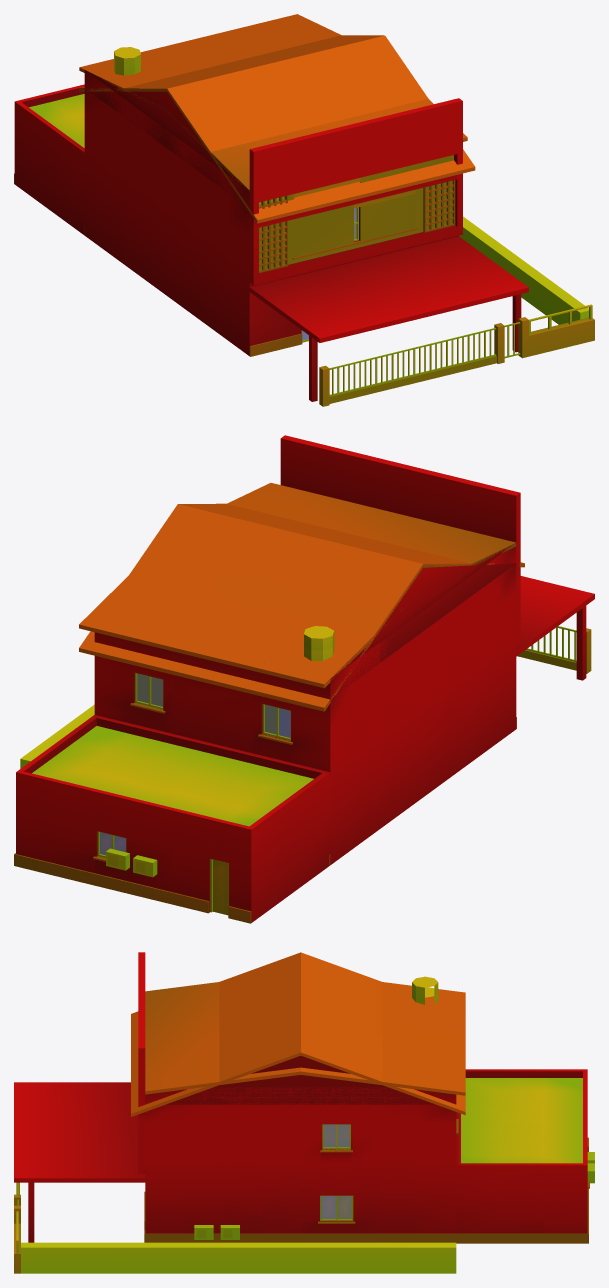
File: semi_d.glb
The picture shows the model from 3 angles, top to bottom: view 1: azimuth 30°, elevation 25°; view 2: azimuth 150°, elevation 25°; view 3: azimuth 270°, elevation 25°; orthographic projection. The views are drawn at different scales.
Visible parts, largest first — view 1: semi_d__gable__LOD0, semi_d__modern__LOD0; view 2: semi_d__gable__LOD0, semi_d__modern__LOD0; view 3: semi_d__gable__LOD0, semi_d__modern__LOD0.
Boxes of the visible parts, x1=… form: semi_d__gable__LOD0: x1=14, y1=35, x2=594, y2=406; semi_d__modern__LOD0: x1=14, y1=14, x2=467, y2=354; semi_d__gable__LOD0: x1=14, y1=503, x2=594, y2=923; semi_d__modern__LOD0: x1=16, y1=435, x2=520, y2=914; semi_d__gable__LOD0: x1=14, y1=952, x2=594, y2=1273; semi_d__modern__LOD0: x1=138, y1=952, x2=587, y2=1233.
Size of what is drawn, in the model's own units: 12.5 by 9 by 24.31.
